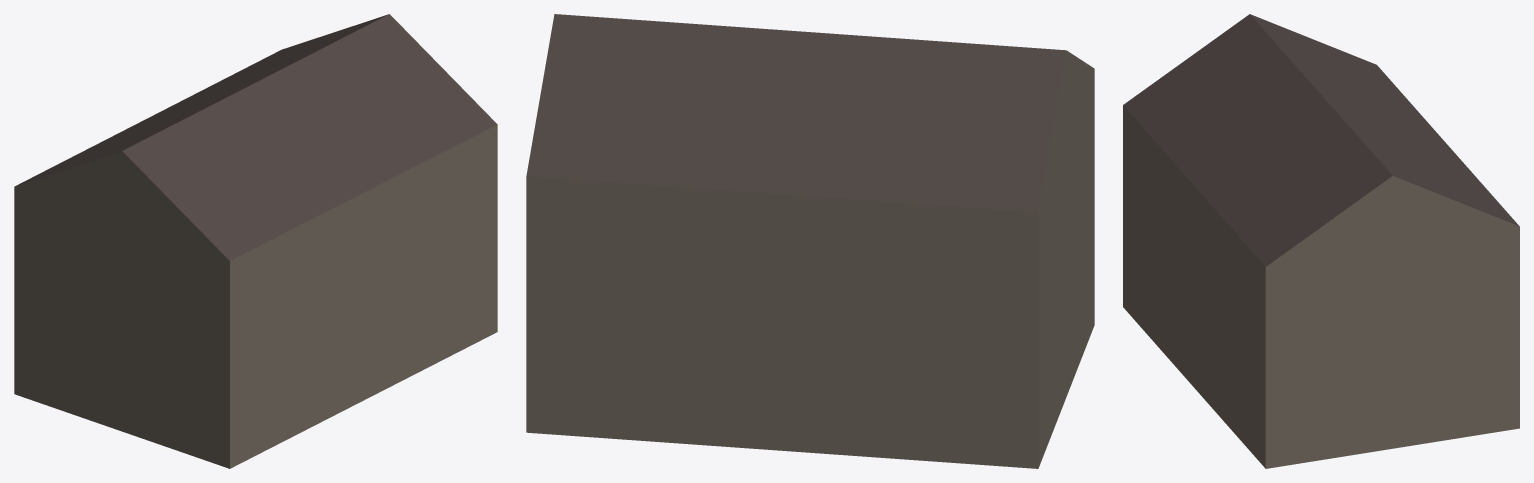
The picture shows the model from 3 angles, left to right: view 1: azimuth 30°, elevation 25°; view 2: azimuth 150°, elevation 25°; view 3: azimuth 270°, elevation 25°; orthographic projection. The views are drawn at different scales.
Parts seen in each view (by area): view 1: HP-w1203858312; view 2: HP-w1203858312; view 3: HP-w1203858312.
Part boxes in pixels (left/top/right/bottom): HP-w1203858312: left=14, top=14, right=497, bottom=468; HP-w1203858312: left=526, top=14, right=1094, bottom=468; HP-w1203858312: left=1123, top=14, right=1519, bottom=468.
Bounding box in the file's own units: 19.33 × 12.17 × 16.03.
